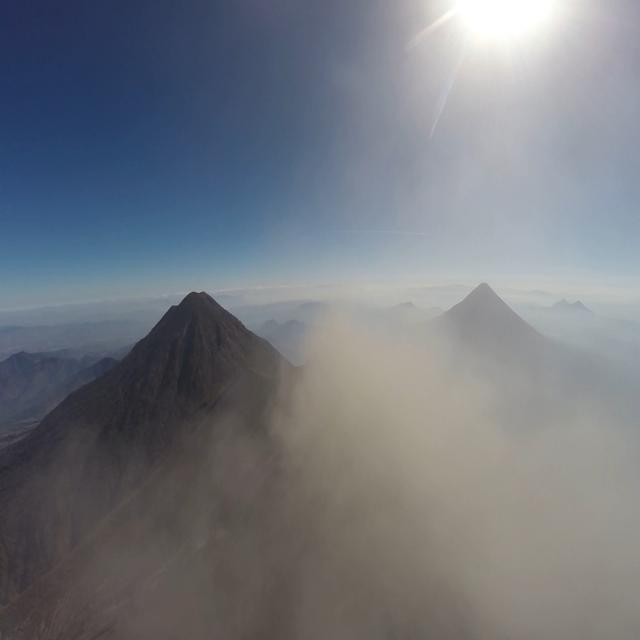Plume: (194, 296, 640, 640)
